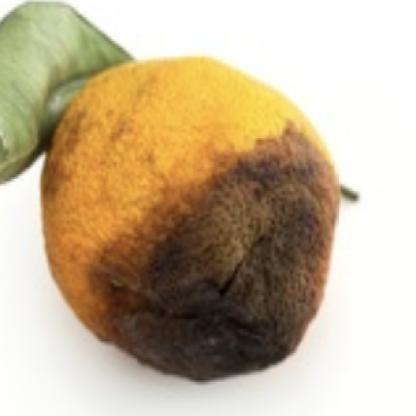rotten: (41, 60, 348, 382)
